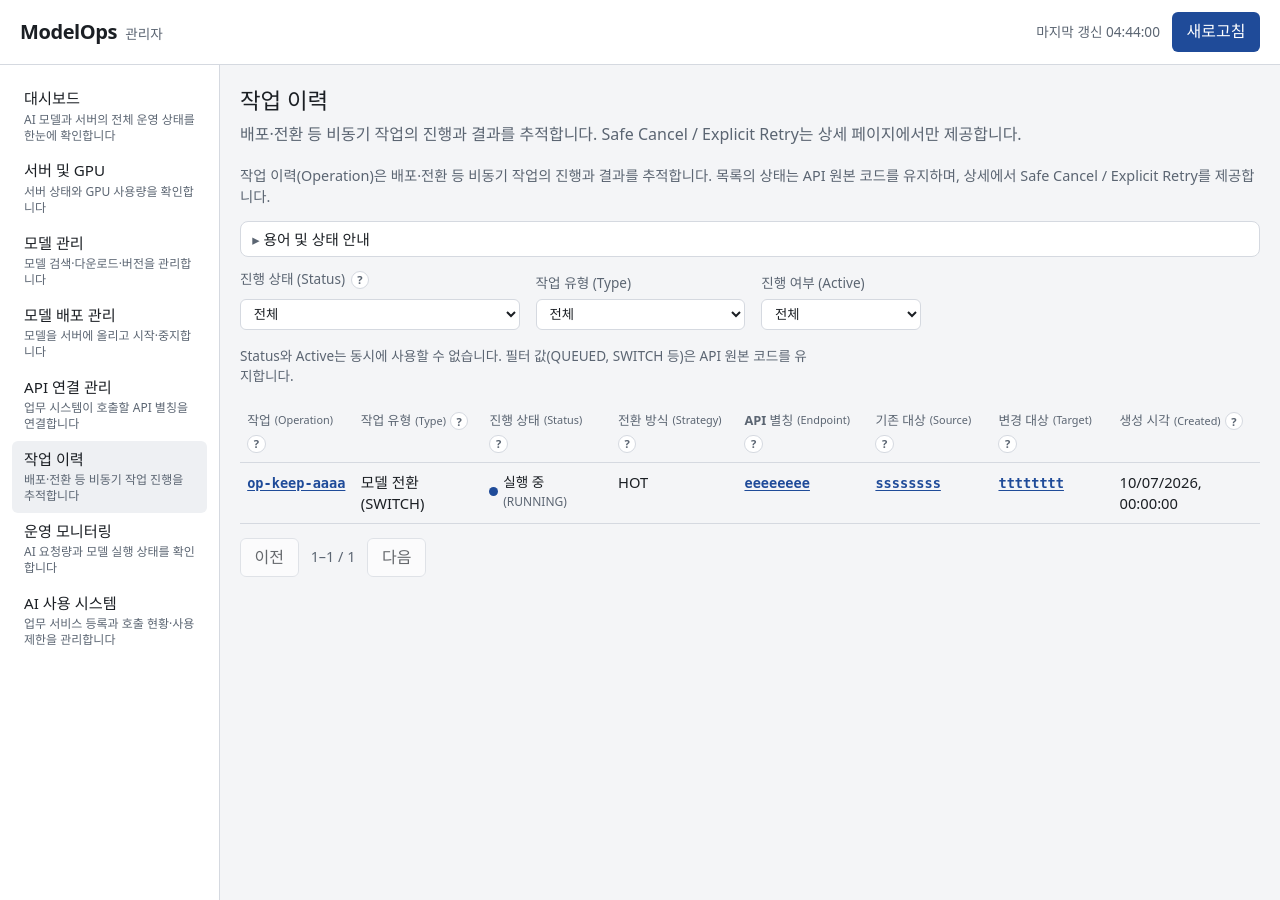
Test: OperationsPage › preserves rows on refresh failure
Expected: the link "op-keep-aaaa" is shown, x1=247 y1=474 x2=345 y2=490
Click the button "새로고침" at (1216, 32), box x1=1172 y1=12 x2=1260 y2=52
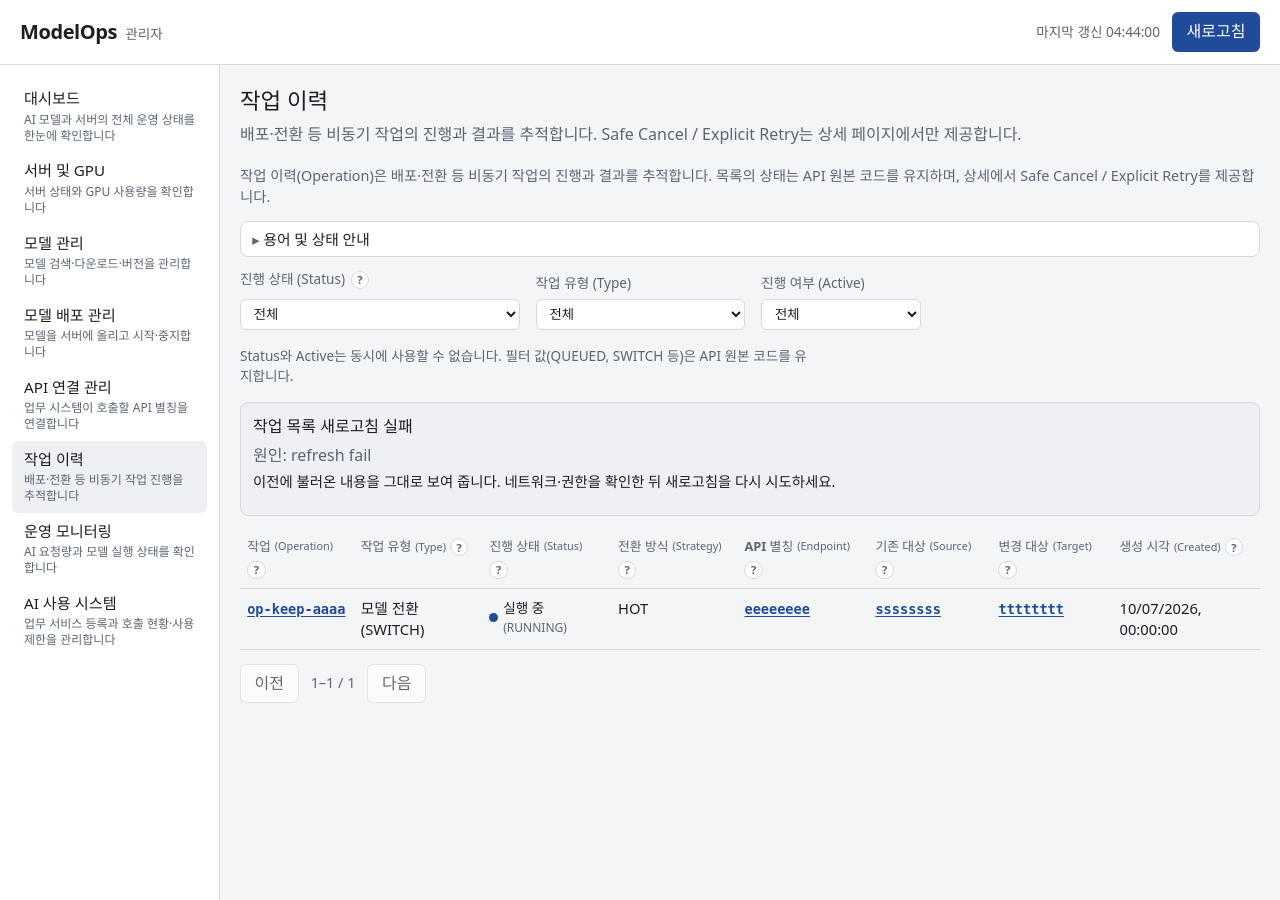
Expected: the link "op-keep-aaaa" is shown, x1=247 y1=600 x2=345 y2=616
Result: the text "원인: refresh fail" is shown at x1=253 y1=444 x2=372 y2=466
